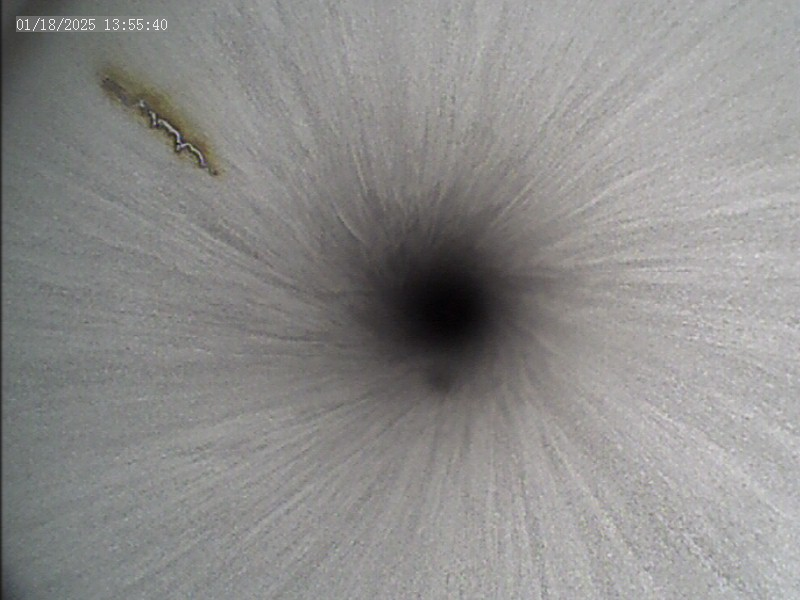defective_area: (100, 73, 223, 178)
